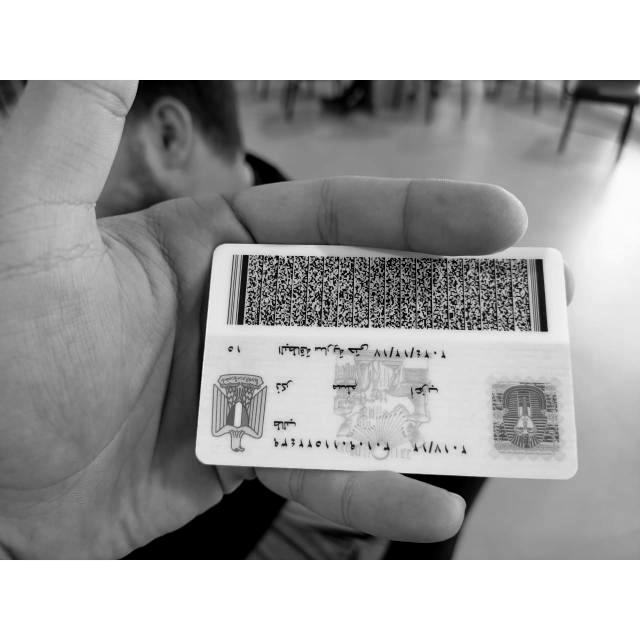id_card: (195, 245, 576, 477)
